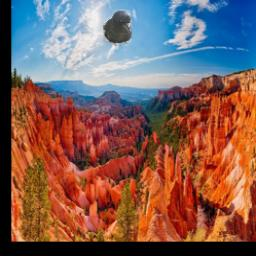Crow: (103, 10, 132, 46)
